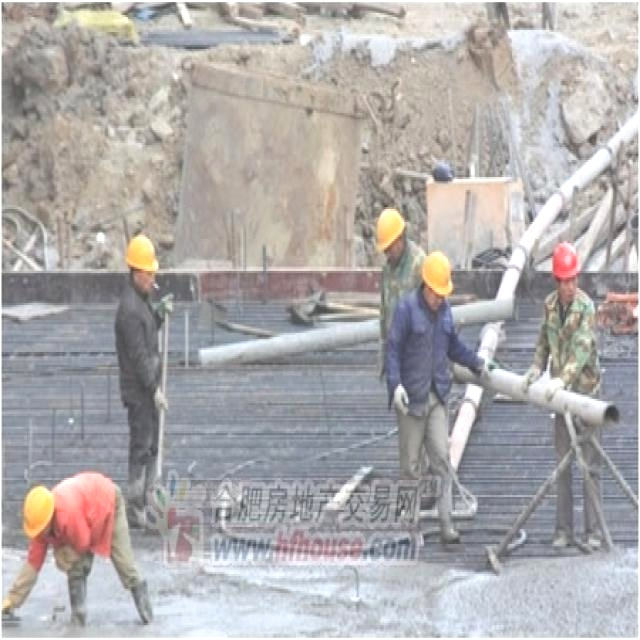Con_Casco: (127, 233, 157, 290), (22, 487, 55, 537), (553, 241, 579, 299)
